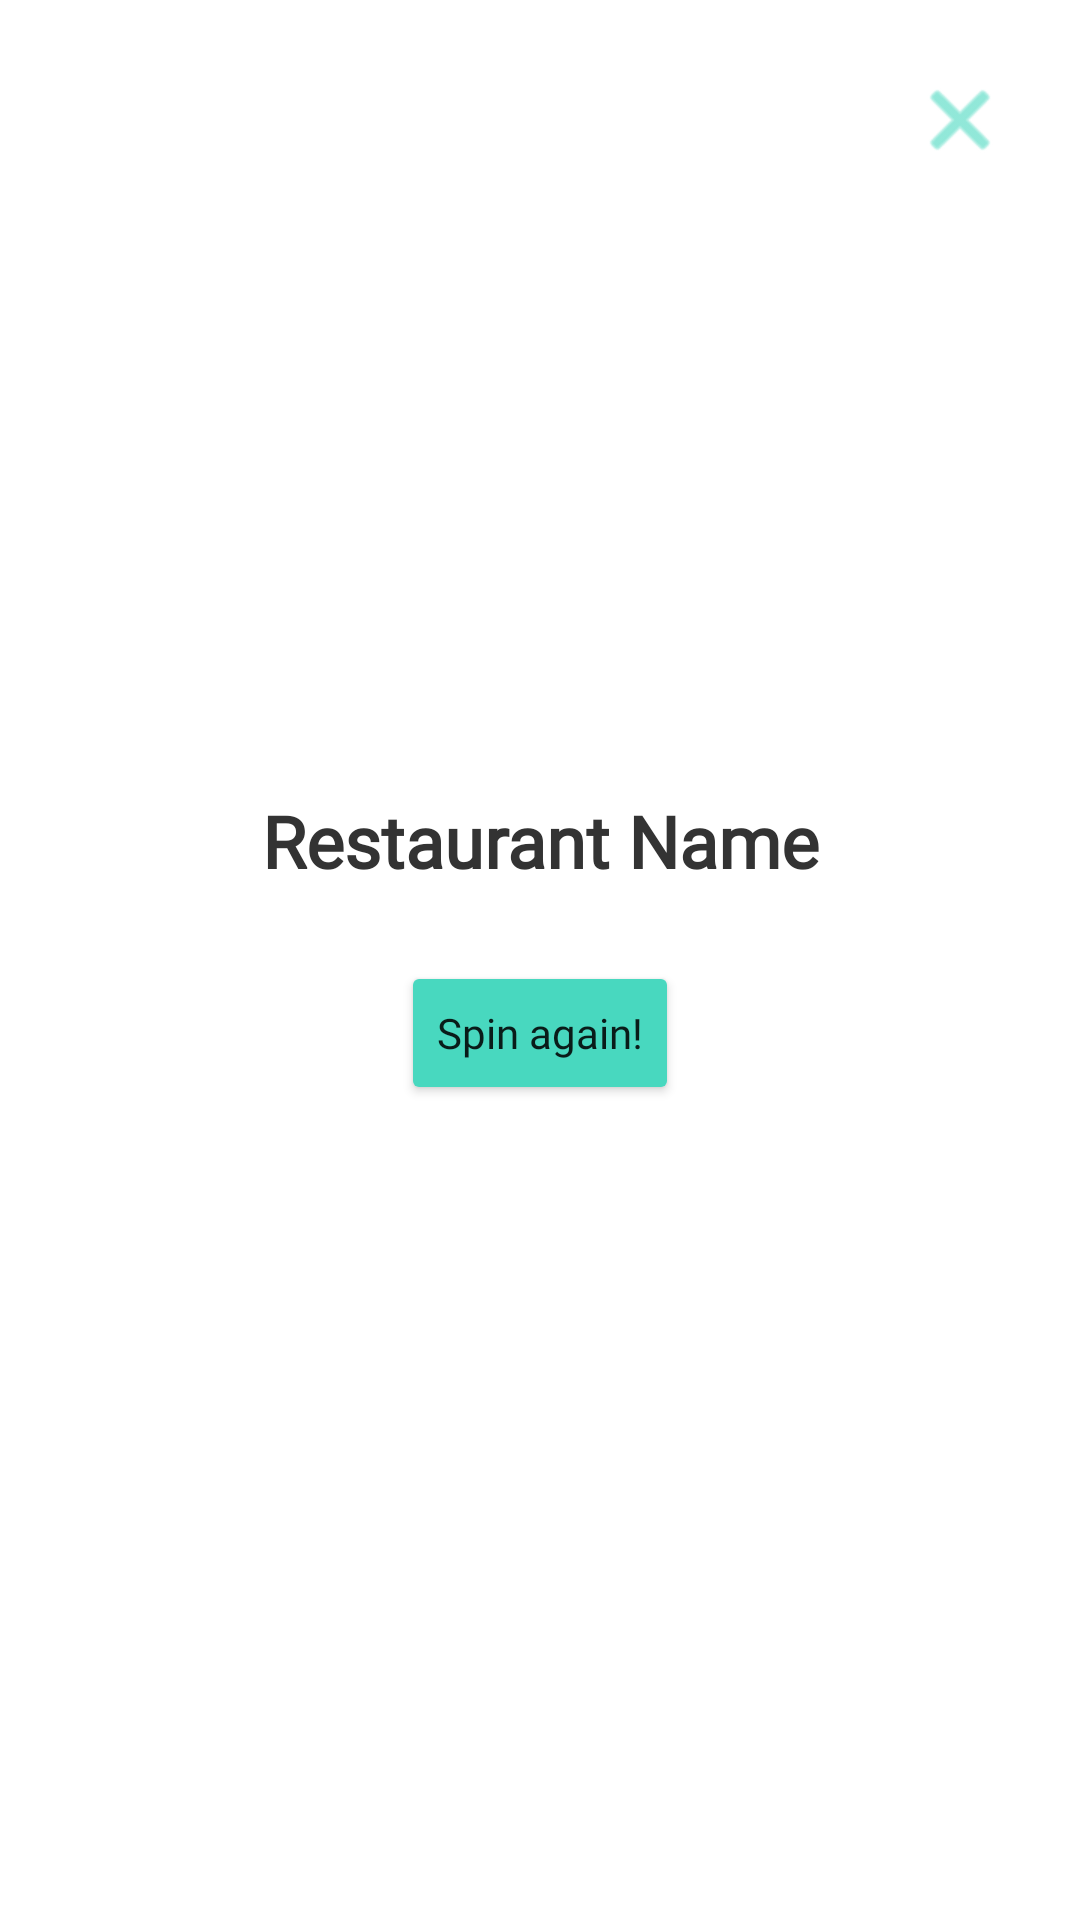

Locate icon controls on the screen. Image size 1080×1920, boxes as [left=x1, top=y1, right=x2, bottom=y2].
close clear cancel: [left=930, top=90, right=990, bottom=150]
